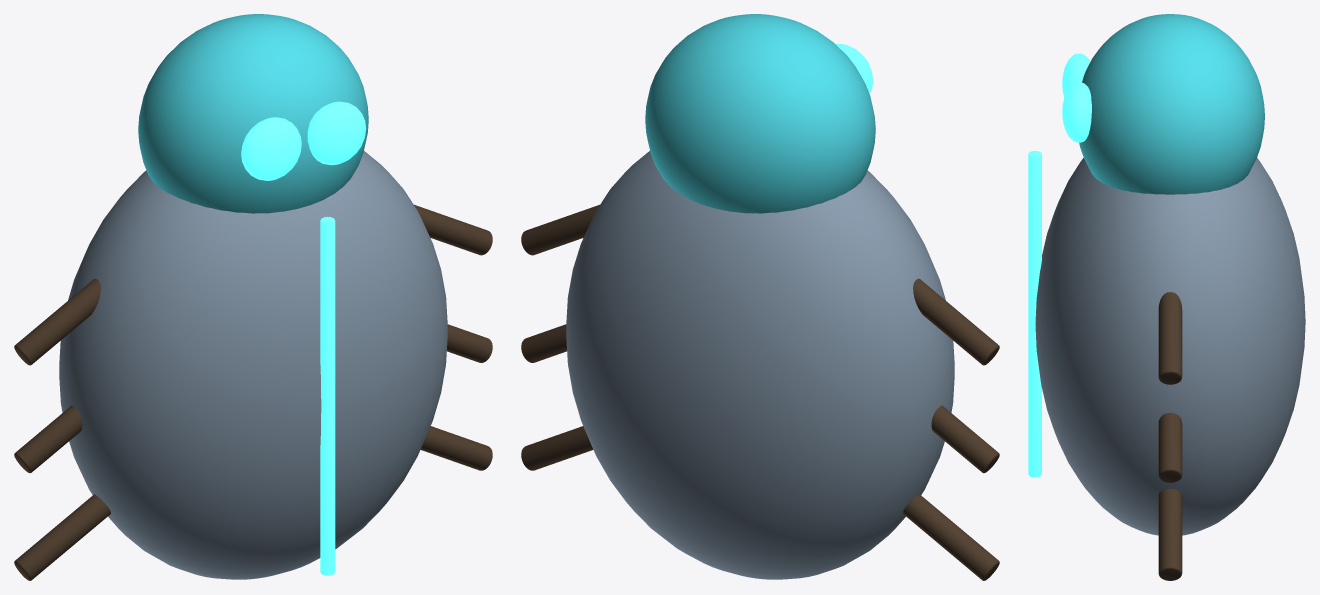
File: crawler_v4.glb
3 renders of one model, left to right at view 1: azimuth 30°, elevation 25°; view 2: azimuth 150°, elevation 25°; view 3: azimuth 270°, elevation 25°, orthographic. The views are drawn at different scales.
Parts seen in each view (by area): view 1: JEWEL_BEETLE_SHELL_PRIMARY, JEWEL_BEETLE_HEAD_ACCENT, JEWEL_BEETLE_SEAM_EMISSIVE, EYE_EMISSIVE, EYE_EMISSIVE.001, JEWEL_BEETLE_LEG_SECONDARY.004, JEWEL_BEETLE_LEG_SECONDARY, JEWEL_BEETLE_LEG_SECONDARY.002, JEWEL_BEETLE_LEG_SECONDARY.001, JEWEL_BEETLE_LEG_SECONDARY.005, JEWEL_BEETLE_LEG_SECONDARY.003; view 2: JEWEL_BEETLE_SHELL_PRIMARY, JEWEL_BEETLE_HEAD_ACCENT, JEWEL_BEETLE_LEG_SECONDARY.004, JEWEL_BEETLE_LEG_SECONDARY, JEWEL_BEETLE_LEG_SECONDARY.002, JEWEL_BEETLE_LEG_SECONDARY.001, JEWEL_BEETLE_LEG_SECONDARY.005, JEWEL_BEETLE_LEG_SECONDARY.003, EYE_EMISSIVE; view 3: JEWEL_BEETLE_SHELL_PRIMARY, JEWEL_BEETLE_HEAD_ACCENT, JEWEL_BEETLE_SEAM_EMISSIVE, JEWEL_BEETLE_LEG_SECONDARY.005, JEWEL_BEETLE_LEG_SECONDARY.001, JEWEL_BEETLE_LEG_SECONDARY.003, EYE_EMISSIVE.001, EYE_EMISSIVE.
Boxes of the visible parts, bbox=[...] form: JEWEL_BEETLE_SHELL_PRIMARY: bbox=[59, 151, 447, 579]; JEWEL_BEETLE_HEAD_ACCENT: bbox=[138, 14, 368, 213]; JEWEL_BEETLE_SEAM_EMISSIVE: bbox=[320, 216, 335, 575]; EYE_EMISSIVE: bbox=[241, 117, 301, 180]; EYE_EMISSIVE.001: bbox=[307, 101, 365, 165]; JEWEL_BEETLE_LEG_SECONDARY.004: bbox=[14, 494, 110, 580]; JEWEL_BEETLE_LEG_SECONDARY: bbox=[14, 278, 100, 365]; JEWEL_BEETLE_LEG_SECONDARY.002: bbox=[14, 405, 82, 473]; JEWEL_BEETLE_LEG_SECONDARY.001: bbox=[414, 204, 492, 255]; JEWEL_BEETLE_LEG_SECONDARY.005: bbox=[420, 426, 492, 470]; JEWEL_BEETLE_LEG_SECONDARY.003: bbox=[447, 324, 492, 362]; JEWEL_BEETLE_SHELL_PRIMARY: bbox=[566, 151, 954, 579]; JEWEL_BEETLE_HEAD_ACCENT: bbox=[645, 14, 875, 213]; JEWEL_BEETLE_LEG_SECONDARY.004: bbox=[903, 494, 999, 580]; JEWEL_BEETLE_LEG_SECONDARY: bbox=[913, 278, 999, 365]; JEWEL_BEETLE_LEG_SECONDARY.002: bbox=[931, 405, 999, 473]; JEWEL_BEETLE_LEG_SECONDARY.001: bbox=[521, 204, 599, 255]; JEWEL_BEETLE_LEG_SECONDARY.005: bbox=[521, 426, 593, 470]; JEWEL_BEETLE_LEG_SECONDARY.003: bbox=[521, 324, 566, 362]; EYE_EMISSIVE: bbox=[836, 44, 872, 93]; JEWEL_BEETLE_SHELL_PRIMARY: bbox=[1035, 158, 1305, 535]; JEWEL_BEETLE_HEAD_ACCENT: bbox=[1079, 14, 1264, 194]; JEWEL_BEETLE_SEAM_EMISSIVE: bbox=[1028, 150, 1041, 477]; JEWEL_BEETLE_LEG_SECONDARY.005: bbox=[1158, 489, 1182, 580]; JEWEL_BEETLE_LEG_SECONDARY.001: bbox=[1158, 292, 1182, 384]; JEWEL_BEETLE_LEG_SECONDARY.003: bbox=[1158, 413, 1182, 482]; EYE_EMISSIVE.001: bbox=[1062, 82, 1091, 142]; EYE_EMISSIVE: bbox=[1062, 53, 1090, 97].
Size of the model in its own units: 1.47 by 1.62 by 0.82.
